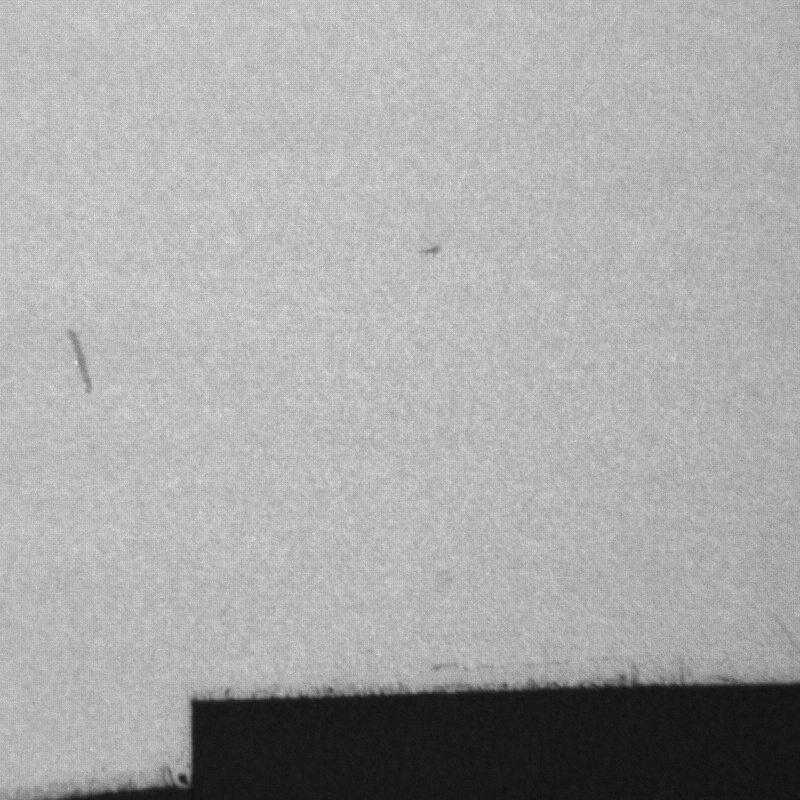defect: (66, 332, 102, 396), (418, 244, 445, 257)
